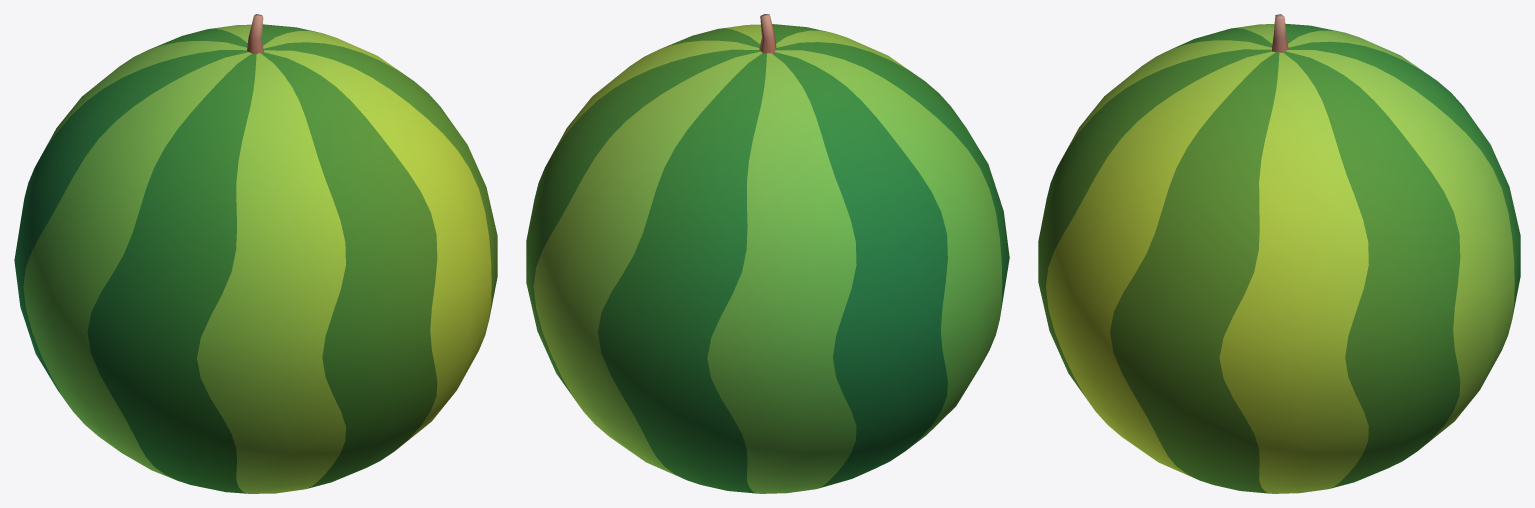
Rendered from watermelon_001.fbx.
The picture shows the model from 3 angles, left to right: view 1: azimuth 30°, elevation 25°; view 2: azimuth 150°, elevation 25°; view 3: azimuth 270°, elevation 25°; orthographic projection.
Parts seen in each view (by area): view 1: watermelon_001; view 2: watermelon_001; view 3: watermelon_001.
Part boxes in pixels (<box>): watermelon_001: <box>14,14,497,493</box>; watermelon_001: <box>526,14,1009,493</box>; watermelon_001: <box>1038,14,1520,493</box>.
Size of the model in its own units: 20.05 by 19.98 by 20.71.
